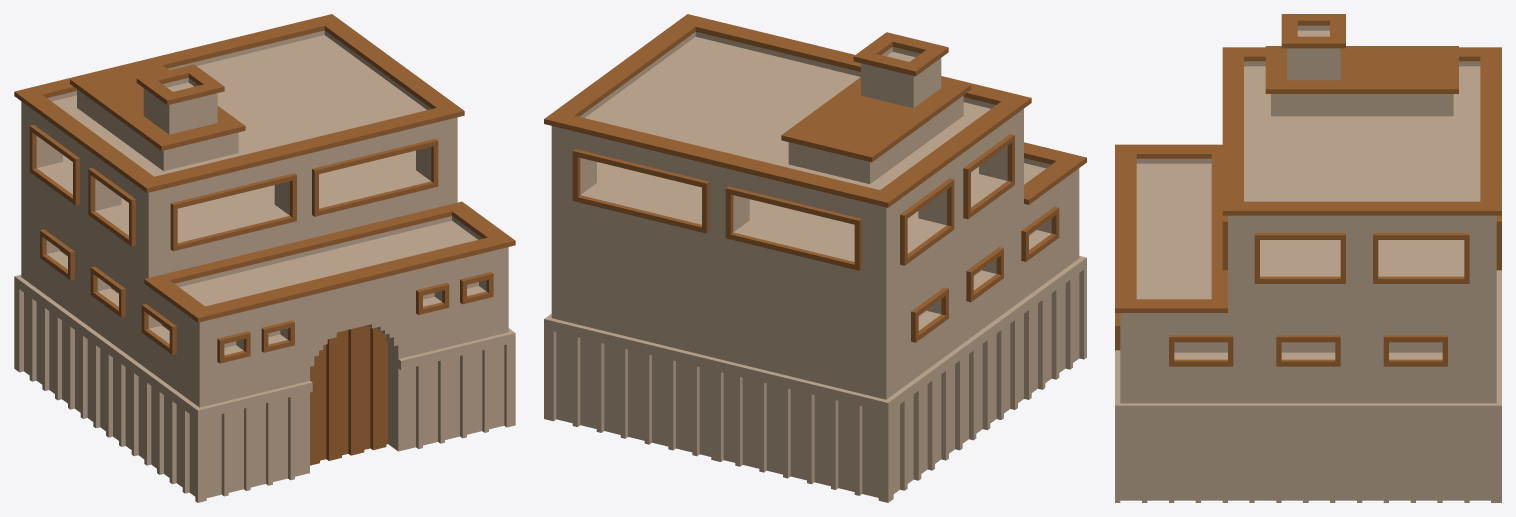
The model's file is Background_B_house_04.FBX.
3 renders of one model, left to right at view 1: azimuth 30°, elevation 25°; view 2: azimuth 150°, elevation 25°; view 3: azimuth 270°, elevation 25°, orthographic. The views are drawn at different scales.
Visible parts, largest first — view 1: untitled-15; view 2: untitled-15; view 3: untitled-15.
Part boxes in pixels (bbox=[...]): untitled-15: bbox=[14, 14, 515, 502]; untitled-15: bbox=[544, 14, 1086, 502]; untitled-15: bbox=[1115, 14, 1501, 502].
Size of the model in its own units: 7.2 by 7.2 by 7.2.
1 material, 1 textured.
